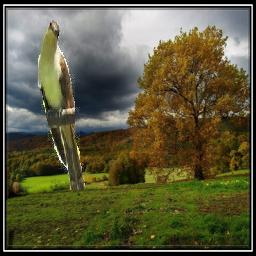Cuckoo: (39, 20, 86, 190)
